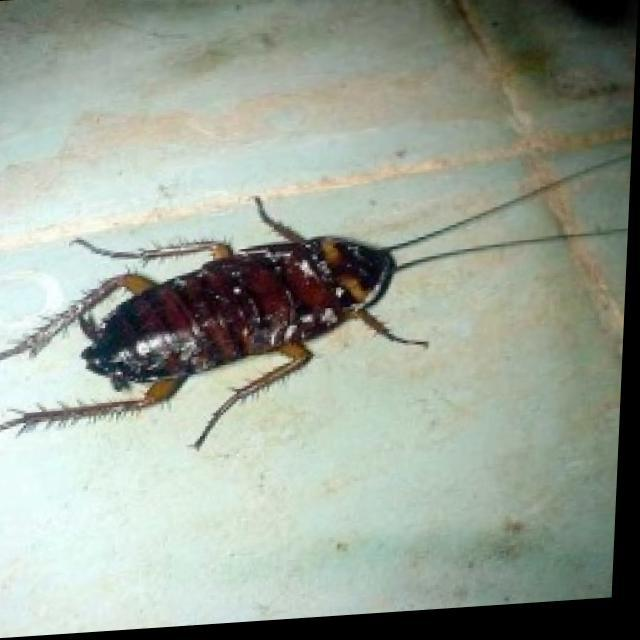cockroach: (0, 166, 470, 458)
